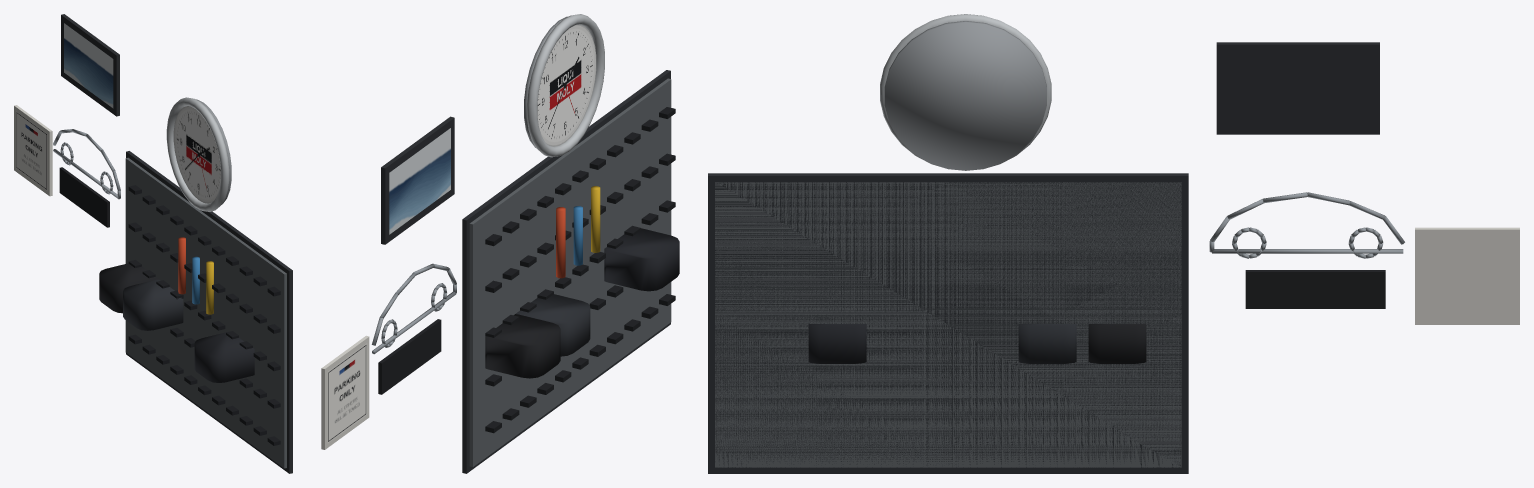
The picture shows the model from 3 angles, left to right: view 1: azimuth 30°, elevation 25°; view 2: azimuth 150°, elevation 25°; view 3: azimuth 270°, elevation 25°; orthographic projection. The views are drawn at different scales.
Parts seen in each view (by area): view 1: root; view 2: root; view 3: root.
Part boxes in pixels (<box>): root: <box>14,14,292,473</box>; root: <box>321,14,679,473</box>; root: <box>708,14,1519,473</box>.
Bounding box in the file's own units: 0.2195 × 1.31 × 2.12.
18 materials, 3 textured.
